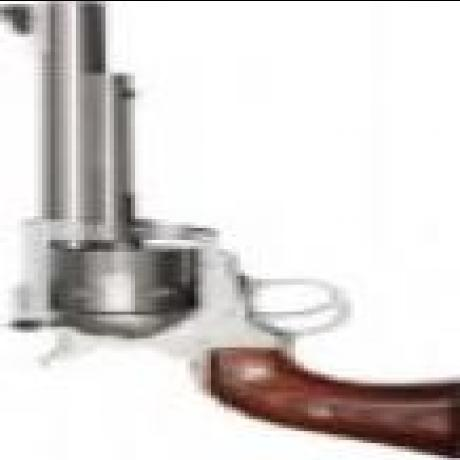weapon: (0, 0, 456, 458)
